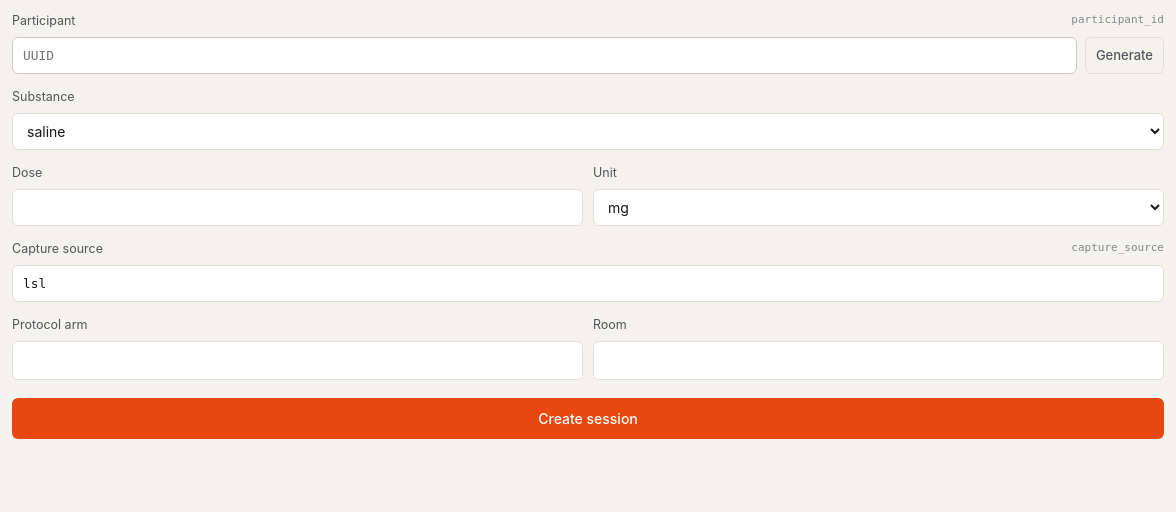
Test: INV-006 [integration]: 422 preserves other entered form values › after a 422 on compound, the entered participant_id and other fields persist
Type "11111111-1111-4111-8111-111111111111" into the field labelled "Participant participant_id" at (544, 55), box left=12, top=37, right=1077, bottom=74
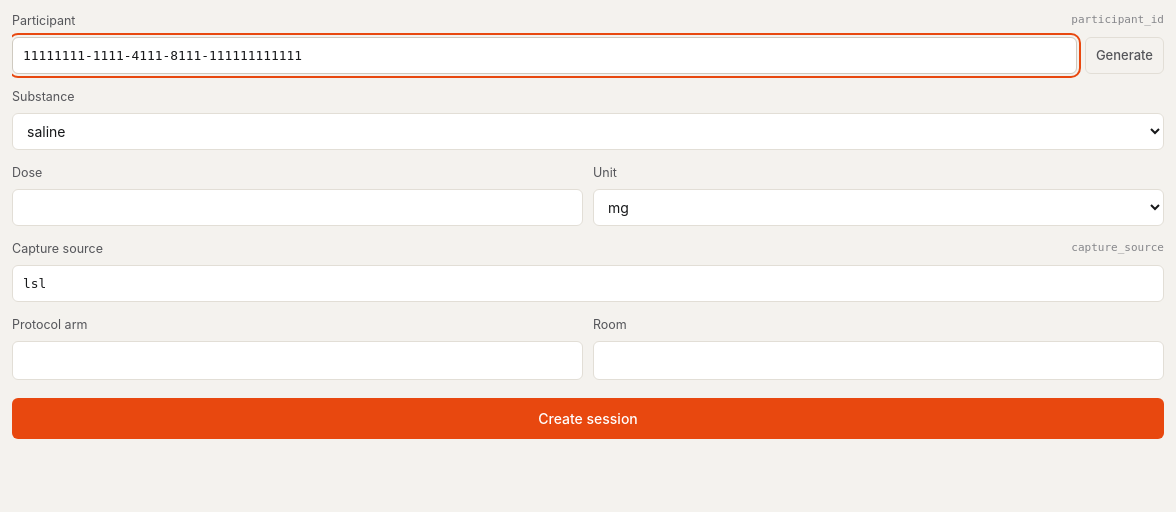
Click the button "Create session" at (588, 418), box left=12, top=398, right=1164, bottom=439
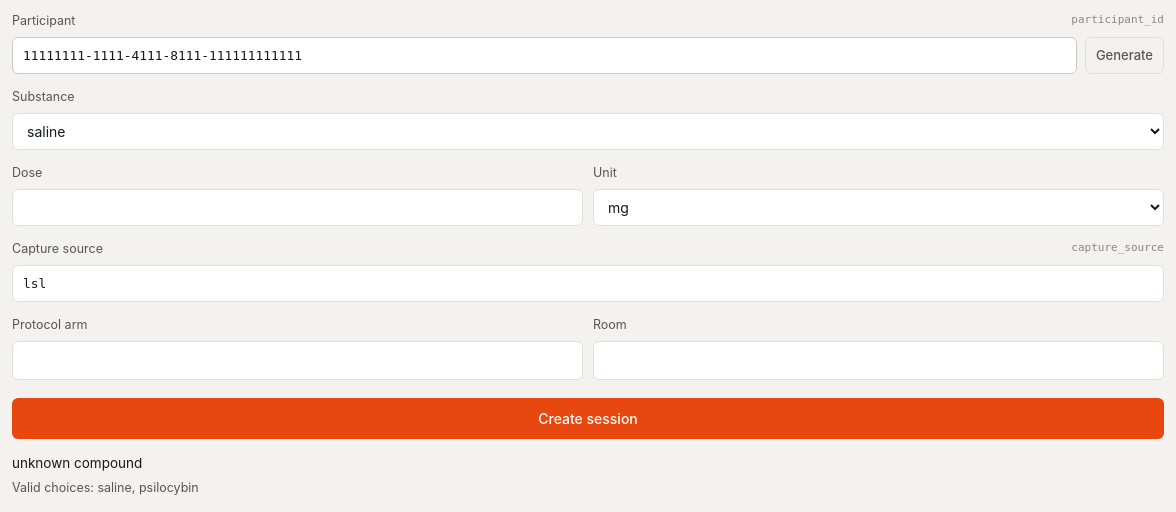
Now the text "unknown compound" is shown, box left=12, top=455, right=142, bottom=471
